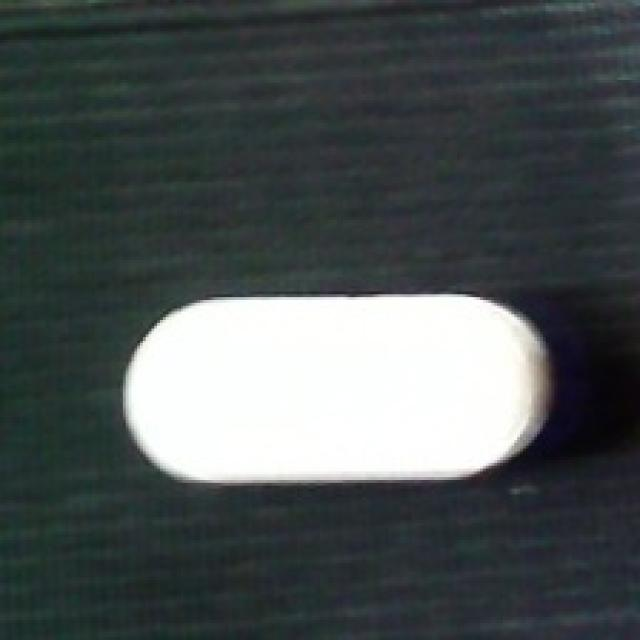no-defect: (120, 280, 560, 491)
